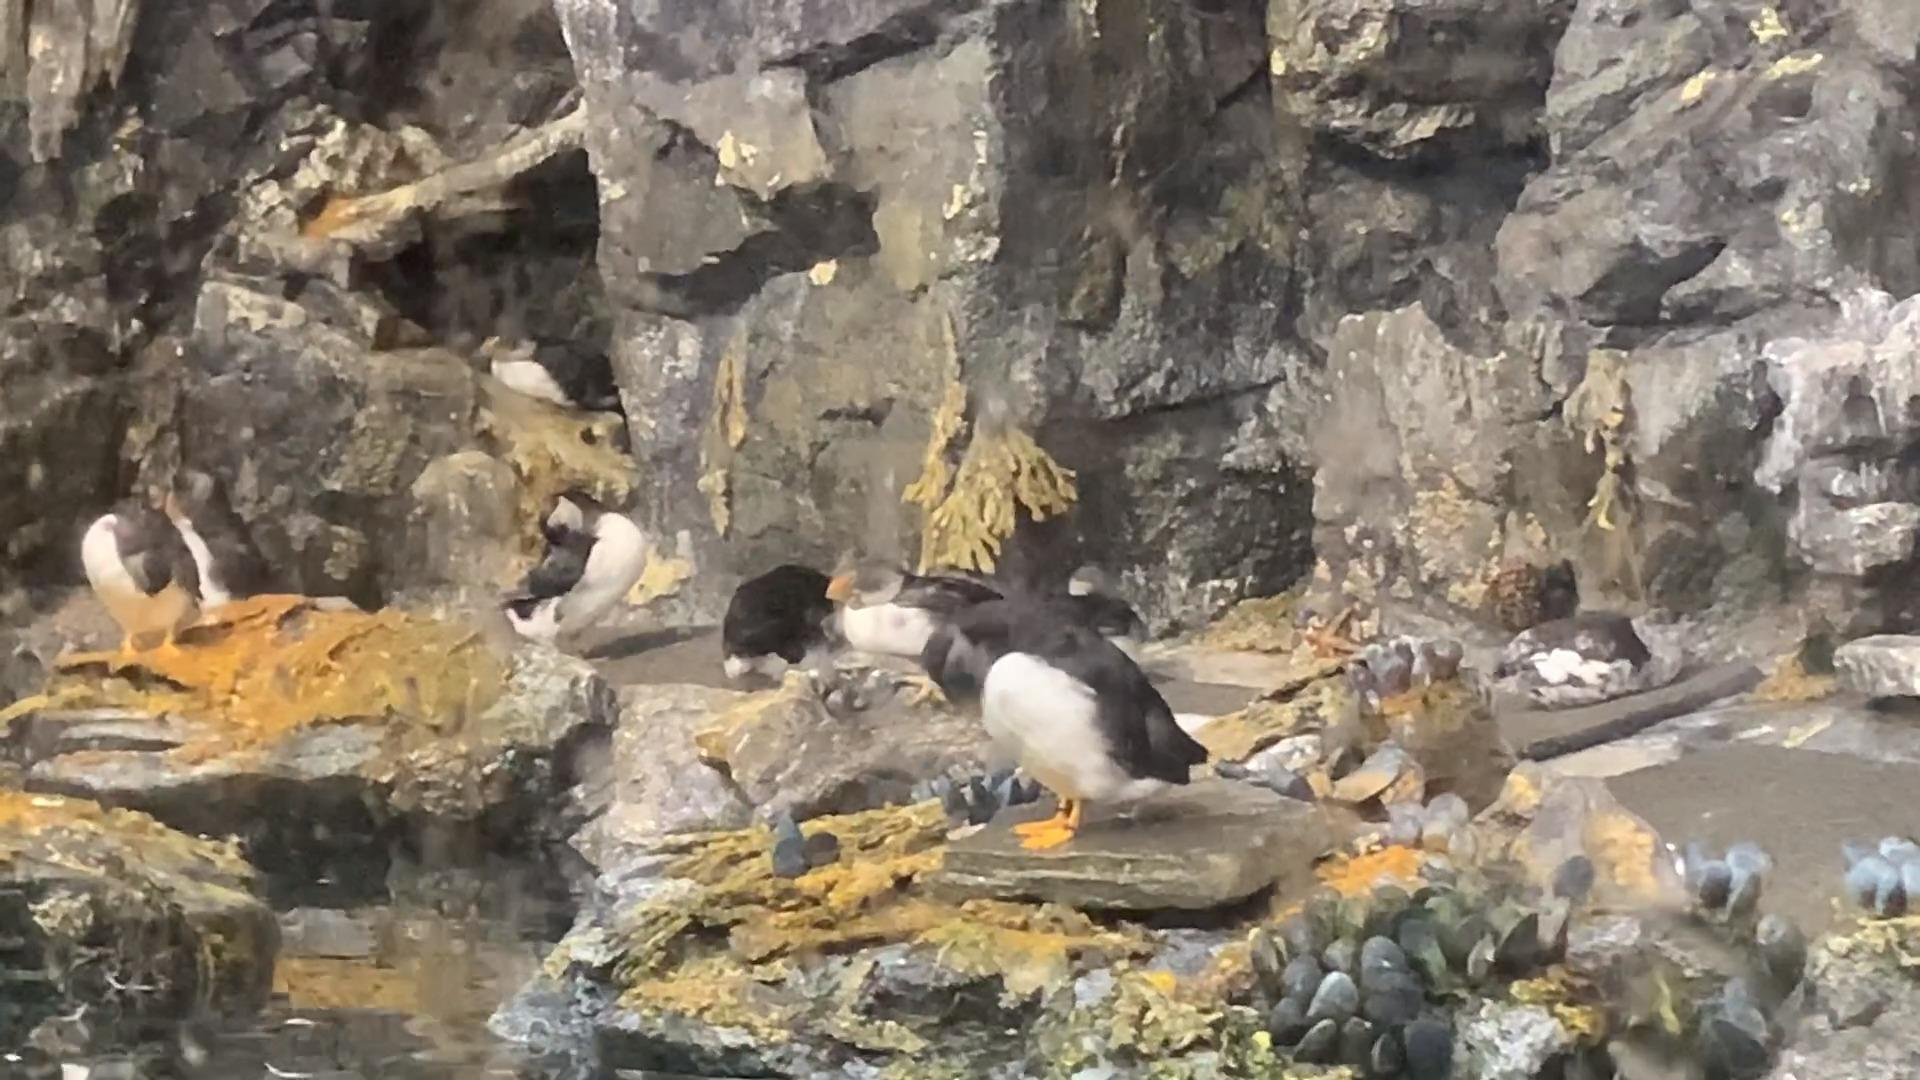puffin: (919, 601, 1212, 852), (496, 484, 650, 654), (822, 550, 1007, 687), (1495, 600, 1689, 713), (150, 455, 286, 612), (78, 488, 204, 655), (462, 314, 618, 431), (705, 558, 833, 683)
